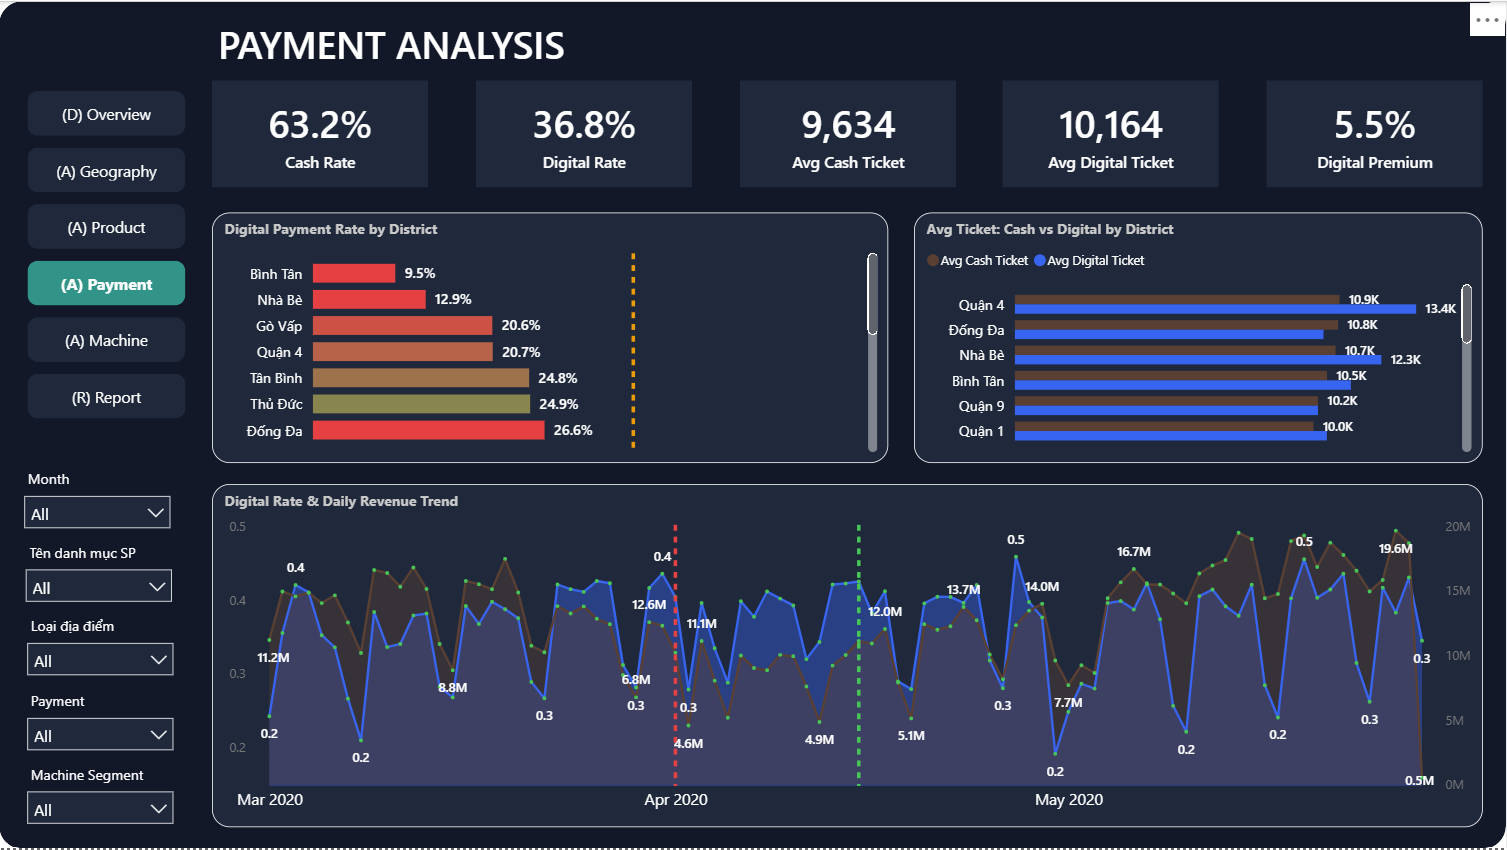

The dashboard page shown, as its layout file describes it:
{"tool":"powerbi","page":{"name":"(A) Payment","canvas":[1280,720],"ordinal":3},"visuals":[{"type":"group","id":"g1","title":"Background","box":[0,0,1279.6,720.6],"z":0},{"type":"shape","box":[0,0,1279.1,720],"z":0,"group":"g1"},{"type":"slicer","fields":{"Values":["dDate.MonthName"]},"box":[11.9,391.7,143.7,59.3],"z":0,"group":"g2"},{"type":"textbox","box":[180.8,8.9,373.1,54.7],"z":1000},{"type":"slicer","fields":{"Values":["dSanPham.Tên danh mục SP"]},"box":[13.2,454.3,143.7,59.3],"z":1000,"group":"g2"},{"type":"group","id":"g2","title":"Filter","box":[11.9,391.7,146.4,309.9],"z":2000},{"type":"slicer","fields":{"Values":["dDiaDiemCha.Loại địa điểm"]},"box":[14.5,517,143.7,59.3],"z":2000,"group":"g2"},{"type":"card","fields":{"Values":["fBanHang.Digital Rate %"]},"box":[404.6,67.5,183.3,90.4],"z":3000},{"type":"slicer","fields":{"Values":["dPaymentType.PaymentName"]},"box":[14.5,579.6,143.7,59.3],"z":3000,"group":"g2"},{"type":"card","fields":{"Values":["fBanHang.Cash Rate %"]},"box":[180.8,67.5,183.3,90.4],"z":4000},{"type":"slicer","fields":{"Values":["fBanHang.Machine Segment"]},"box":[14.5,642.3,143.7,59.3],"z":4000,"group":"g2"},{"type":"card","fields":{"Values":["fBanHang.Avg Cash Ticket"]},"box":[628.3,67.5,183.3,90.4],"z":5000},{"type":"clusteredBarChart","title":"Digital Payment Rate by District","fields":{"Category":["dDiaDiemCha.District Name"],"Y":["fBanHang.Digital Rate %"]},"box":[180.8,179.5,574.2,212.6],"z":6000},{"type":"card","fields":{"Values":["fBanHang.Avg Digital Ticket"]},"box":[852.1,67.5,183.3,90.4],"z":7000},{"type":"card","fields":{"Values":["fBanHang.Digital Premium %"]},"box":[1075.9,67.5,183.3,90.4],"z":8000},{"type":"clusteredBarChart","title":"Avg Ticket: Cash vs Digital by District","fields":{"Category":["dDiaDiemCha.District Name"],"Y":["fBanHang.Avg Cash Ticket","fBanHang.Avg Digital Ticket"]},"box":[776.7,179.5,482.5,212.6],"z":9000},{"type":"areaChart","title":"Digital Rate & Daily Revenue Trend","fields":{"Category":["dDate.Date"],"Y":["fBanHang.Digital Rate %"],"Y2":["Sum(fBanHang.Sales)"]},"box":[180.8,410,1078.4,291.6],"z":10000},{"type":"pageNavigator","box":[23.7,76.5,134.5,283.5],"z":11000}]}

Visuals, with their boxes in screenshot pixels (x1, y1, x2, y2), scaled from the page's 1280x720 canvas onto the 1507x850 screenshot:
"Background" group: rect(0, 0, 1506, 849)
shape: rect(0, 0, 1506, 849)
slicer - dDate.MonthName: rect(14, 462, 183, 532)
textbox: rect(213, 11, 652, 75)
slicer - dSanPham.Tên danh mục SP: rect(16, 536, 185, 606)
"Filter" group: rect(14, 462, 186, 828)
slicer - dDiaDiemCha.Loại địa điểm: rect(17, 610, 186, 680)
card - fBanHang.Digital Rate %: rect(476, 80, 692, 186)
slicer - dPaymentType.PaymentName: rect(17, 684, 186, 754)
card - fBanHang.Cash Rate %: rect(213, 80, 429, 186)
slicer - fBanHang.Machine Segment: rect(17, 758, 186, 828)
card - fBanHang.Avg Cash Ticket: rect(740, 80, 956, 186)
"Digital Payment Rate by District" clusteredBarChart: rect(213, 212, 889, 463)
card - fBanHang.Avg Digital Ticket: rect(1003, 80, 1219, 186)
card - fBanHang.Digital Premium %: rect(1267, 80, 1483, 186)
"Avg Ticket: Cash vs Digital by District" clusteredBarChart: rect(914, 212, 1483, 463)
"Digital Rate & Daily Revenue Trend" areaChart: rect(213, 484, 1483, 828)
pageNavigator: rect(28, 90, 186, 425)
